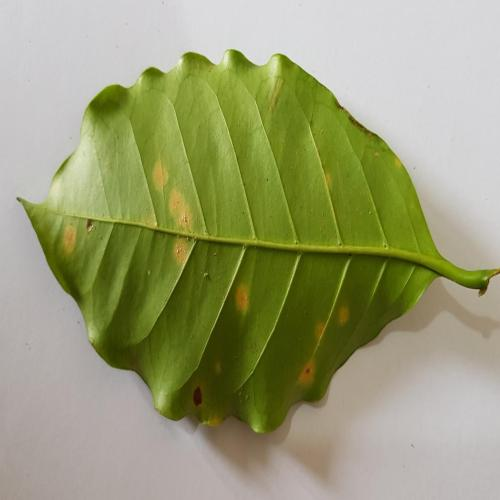leaf: (14, 49, 500, 437)
rust: (164, 183, 201, 267), (148, 149, 178, 194), (230, 283, 260, 317), (54, 222, 84, 255), (299, 354, 322, 390), (334, 305, 356, 333), (310, 321, 330, 347)
